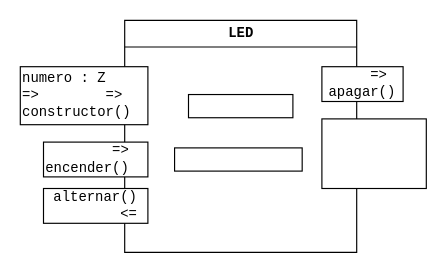
Some shapes in this 447 by 273 pixel diagram are drawn without their labels. Each missing label, with the centre of its shape:
encendido:T/F: the point at 237,159
numeroLED:Z: the point at 240,105
tiempo : R => brillar() <=: the point at 373,153
